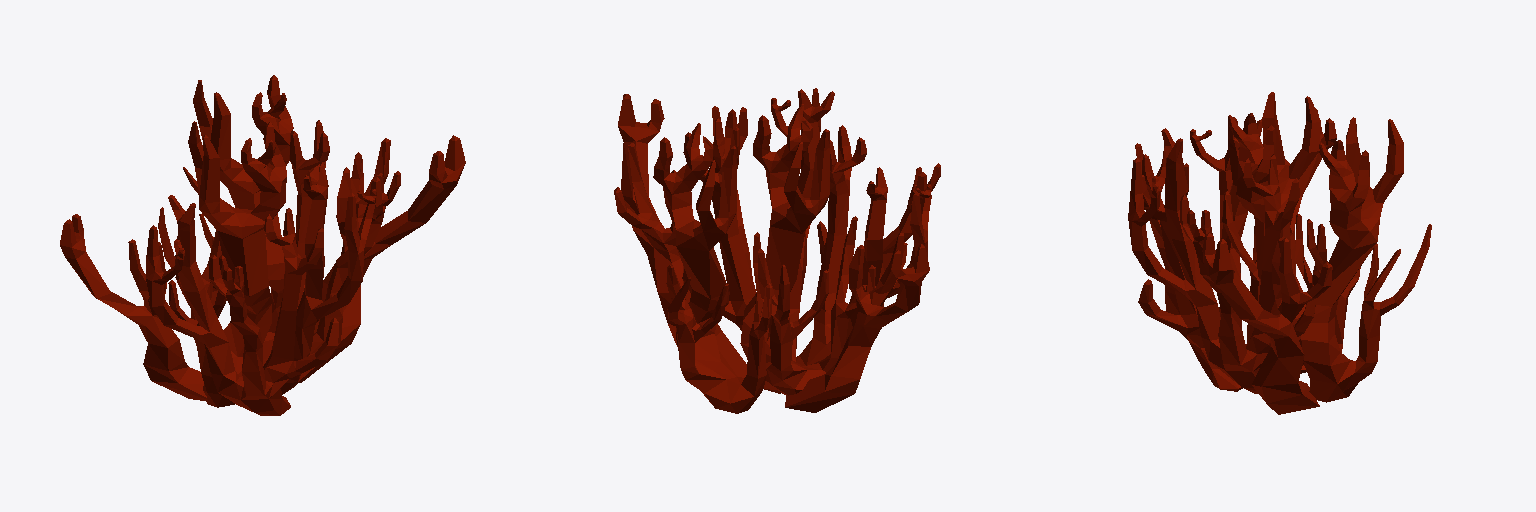
The model's file is Object_FireCoral2.obj.
3 views of the same model, side by side, from view 1: azimuth 30°, elevation 25°; view 2: azimuth 150°, elevation 25°; view 3: azimuth 270°, elevation 25° (orthographic).
Visible parts, largest first — view 1: FireCoral2; view 2: FireCoral2; view 3: FireCoral2.
Part boxes in pixels (x1,y1,x2,y2): FireCoral2: (60,75,465,415); FireCoral2: (614,88,940,413); FireCoral2: (1128,92,1431,414).
Size of the model in its own units: 1.92 by 1.41 by 1.41.